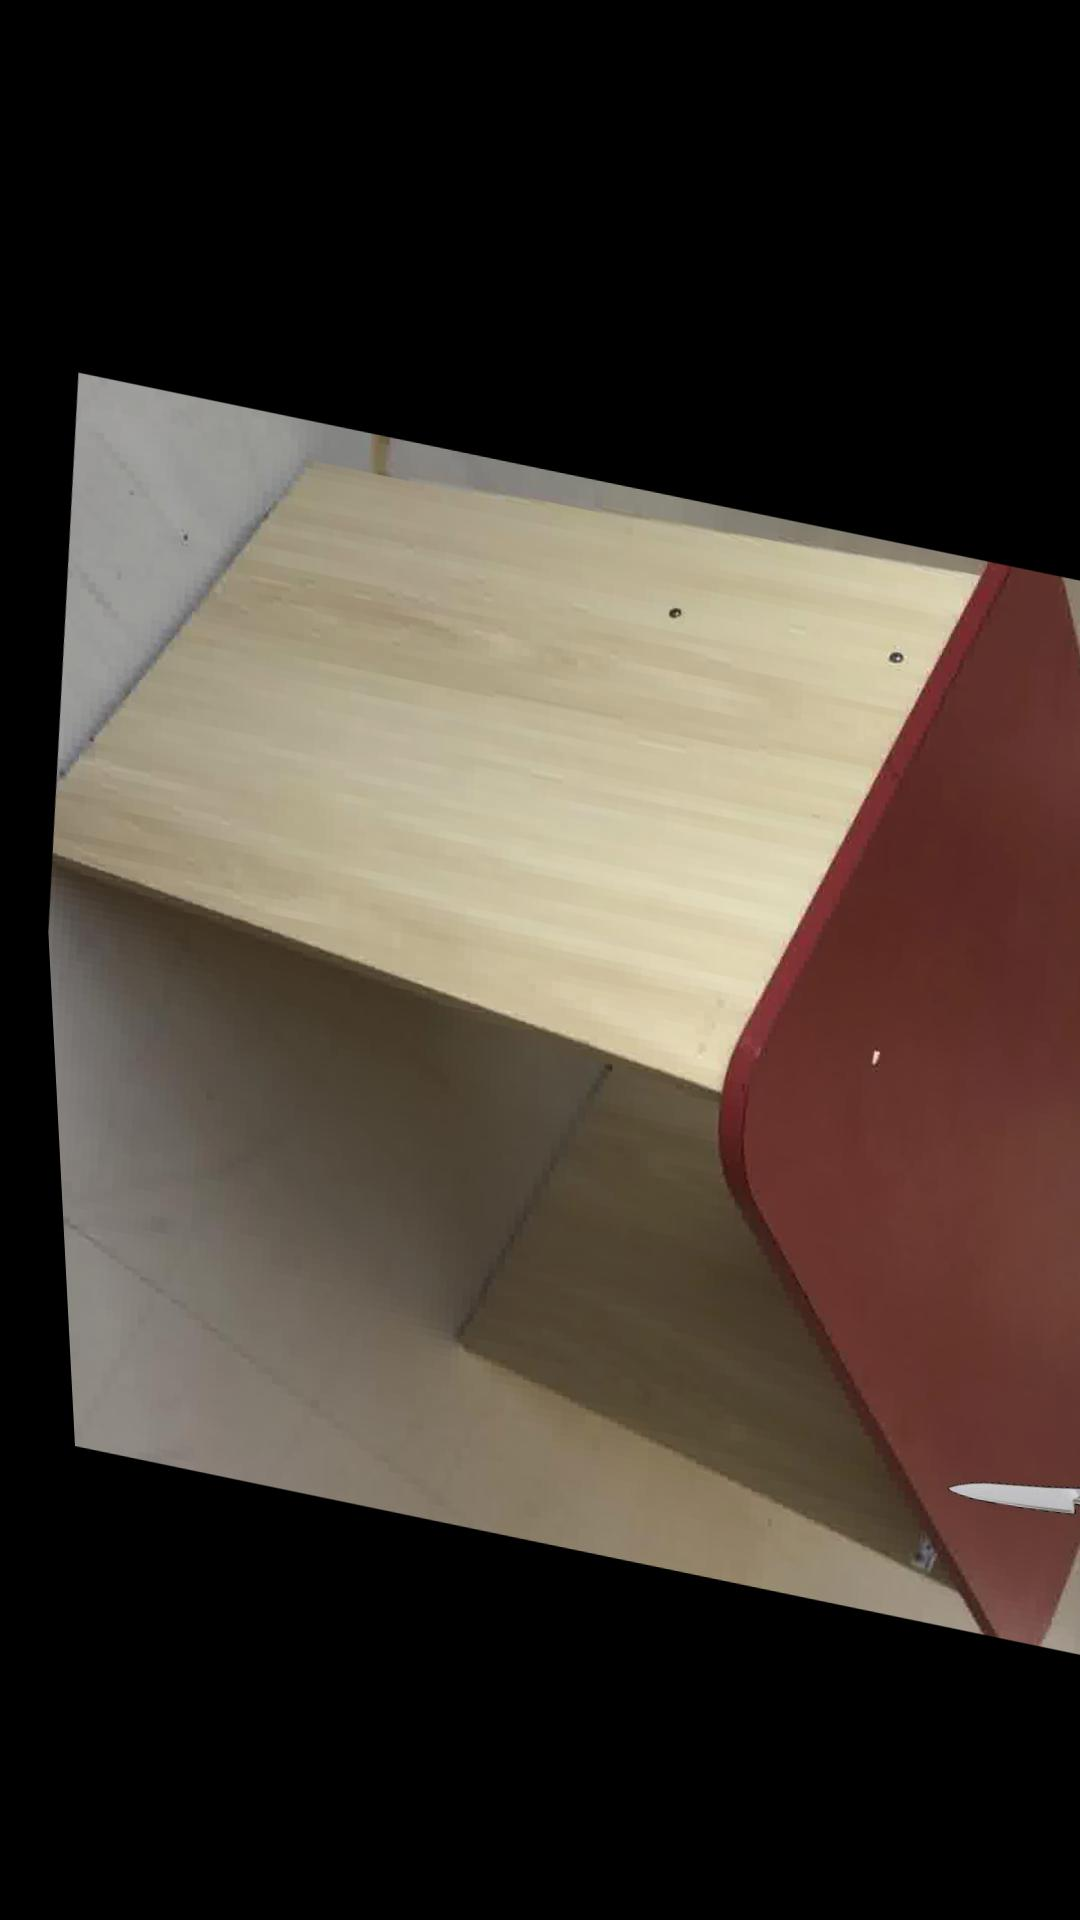knife: (932, 1464, 1080, 1494)
